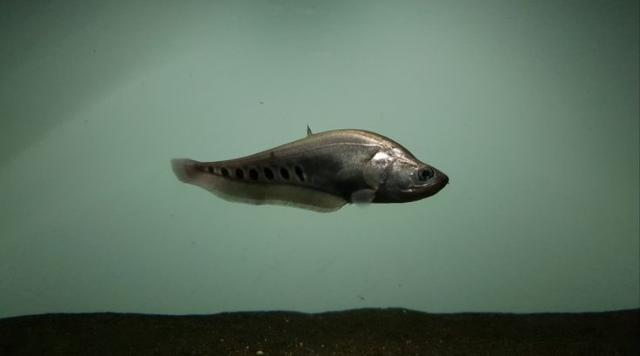Mulut: (401, 172, 461, 208)
Sirip Dada: (345, 182, 381, 214)
Sirip Punggung: (299, 120, 325, 142)
